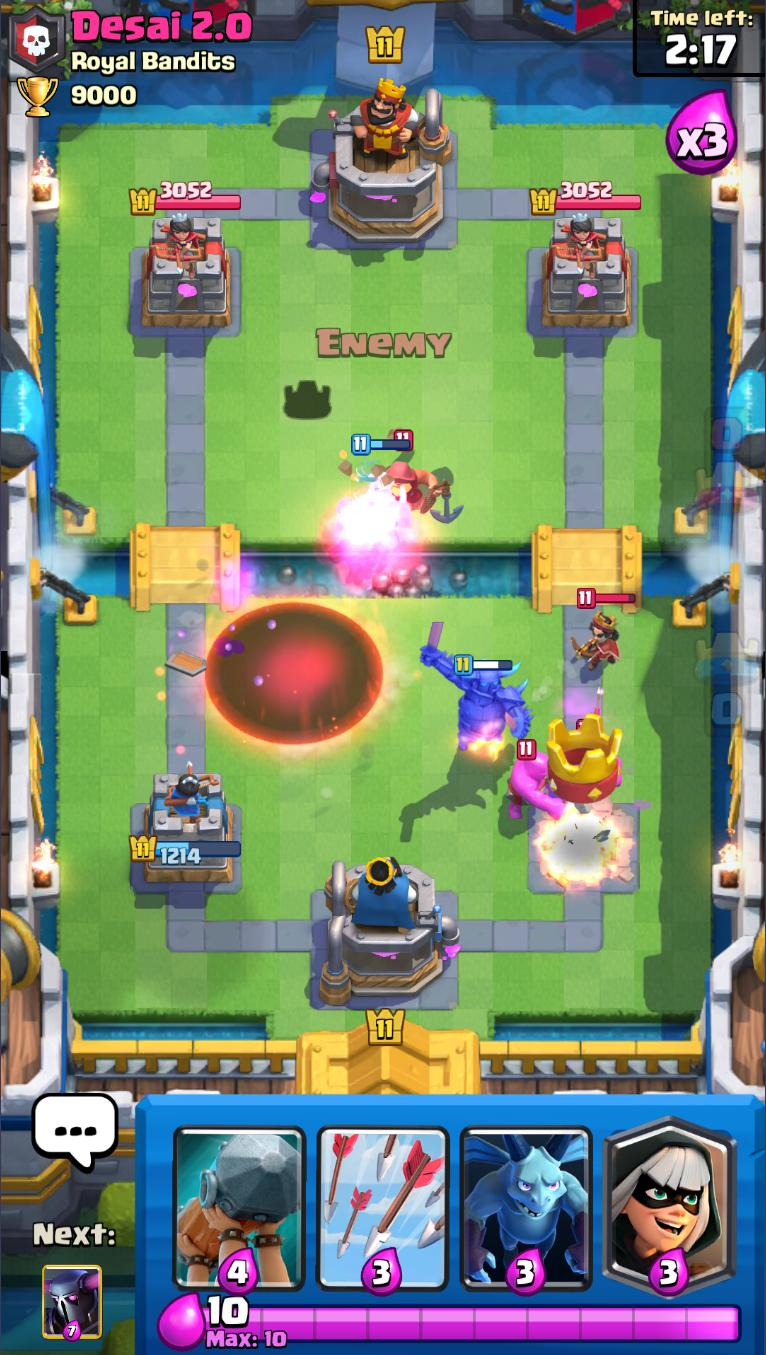ArrowDeck: (311, 1096, 455, 1297)
BanditDeck: (598, 1094, 743, 1296)
BattleRamDeck: (167, 1095, 312, 1295)
Elixir: (202, 1295, 743, 1351)
ElixirGolemMini: (504, 738, 564, 822)
EnemyTower: (536, 215, 633, 333), (136, 215, 231, 333)
FisherMan: (364, 430, 448, 536)
KingTower: (310, 77, 453, 248)
LittlePrince: (571, 590, 636, 673)
MinionsDeck: (455, 1096, 598, 1299)
MyKingTower: (316, 858, 459, 1009)
MyPekka: (418, 620, 534, 755)
MyPrincessTower: (127, 770, 241, 888)
MyPrincessTowerBrocken: (527, 798, 642, 897)
MyPrincessTowerHP: (127, 835, 240, 869)
MyRoyaleGhost: (335, 431, 411, 548)
PekkaNext: (42, 1264, 104, 1342)
PrincessTower: (550, 214, 605, 276), (151, 215, 206, 275)
TowerPrincessHP: (527, 180, 641, 217), (126, 182, 240, 219)
Void: (202, 602, 385, 747)
